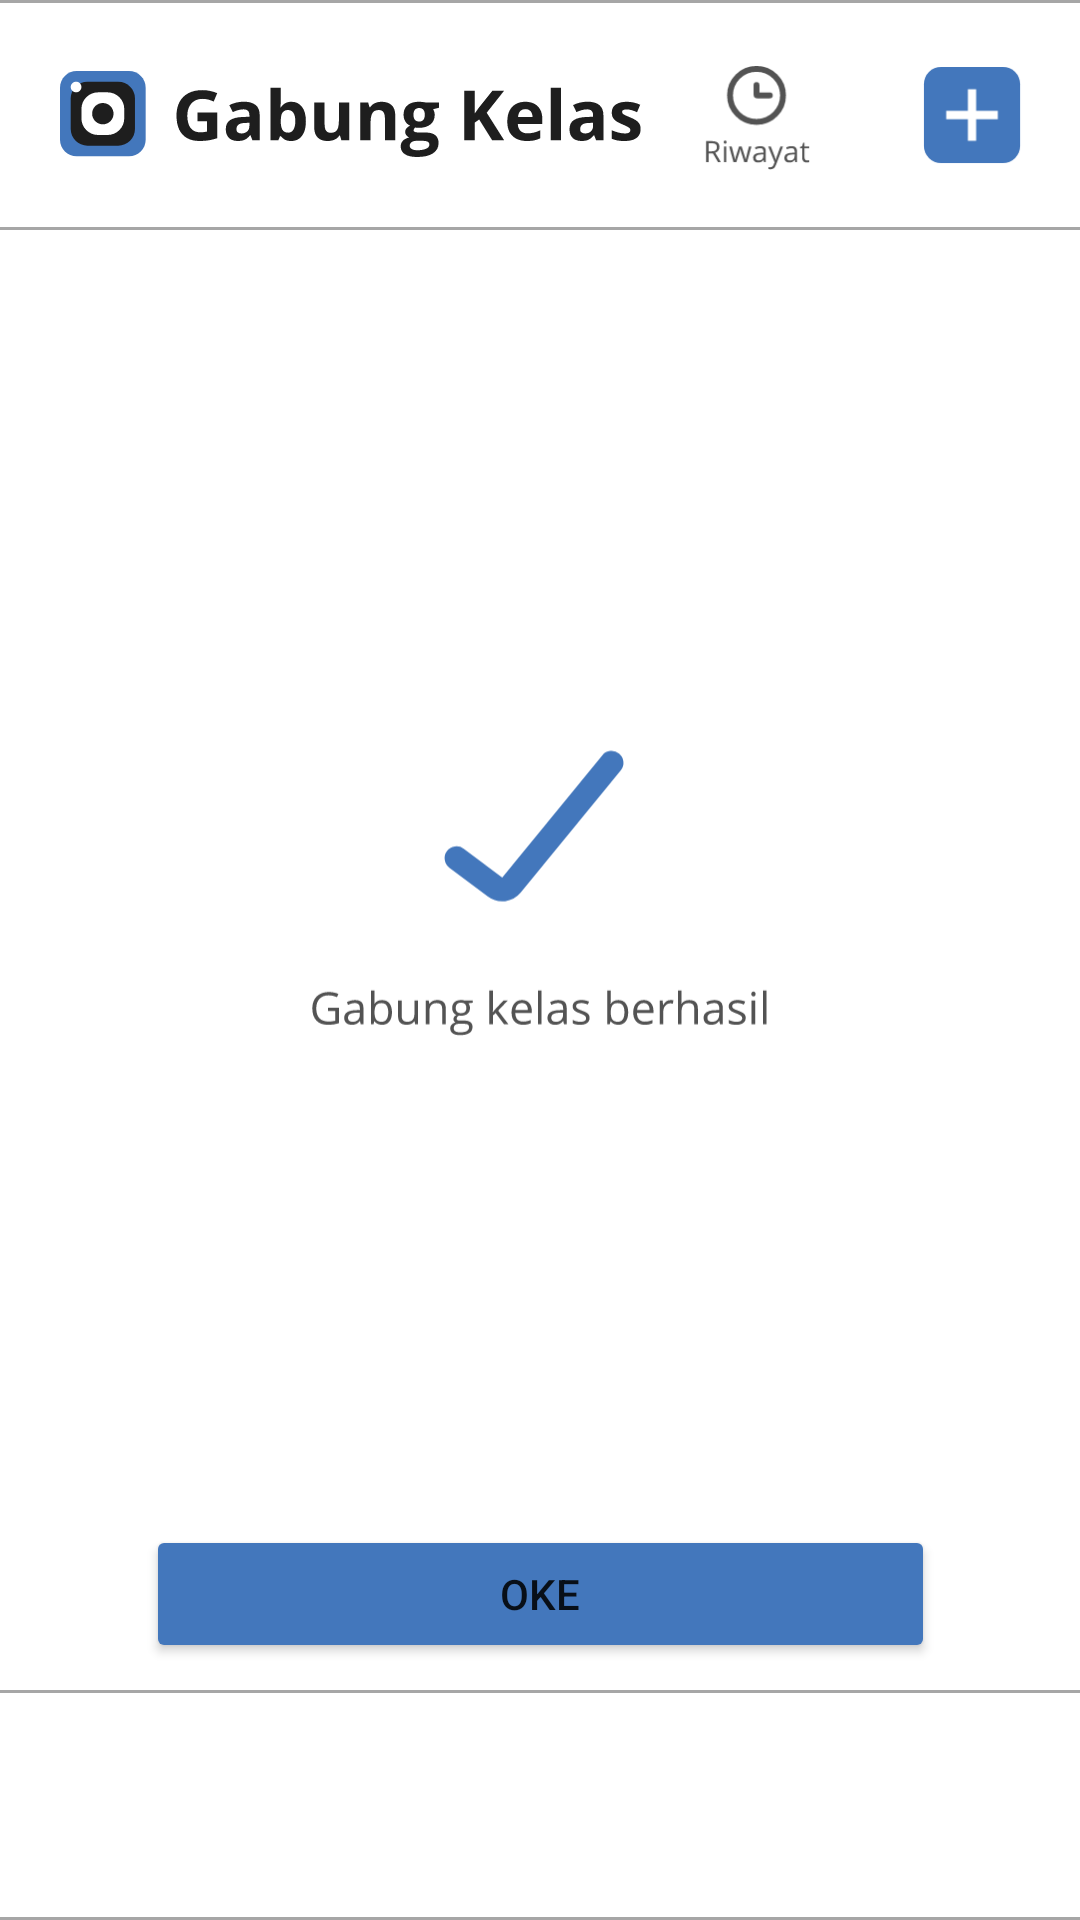

Icons on this 1080 x 1920 Android screen, each with its box as (x1, y1, x2, y2):
tambah: (924, 67, 1021, 163)
